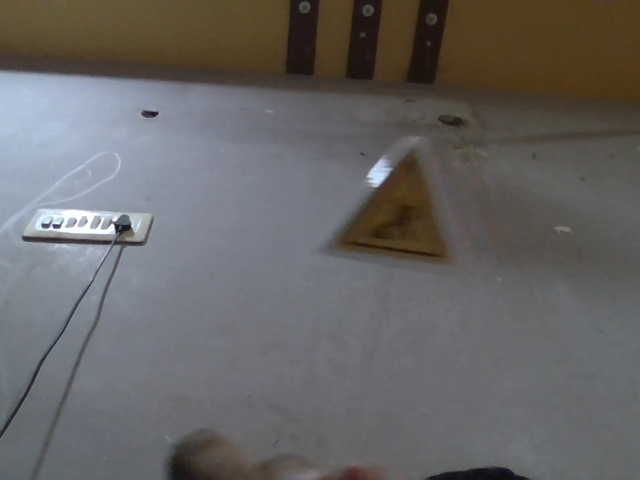workinprogress: (311, 148, 464, 268)
